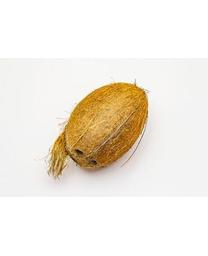coconut: (53, 78, 149, 174)
